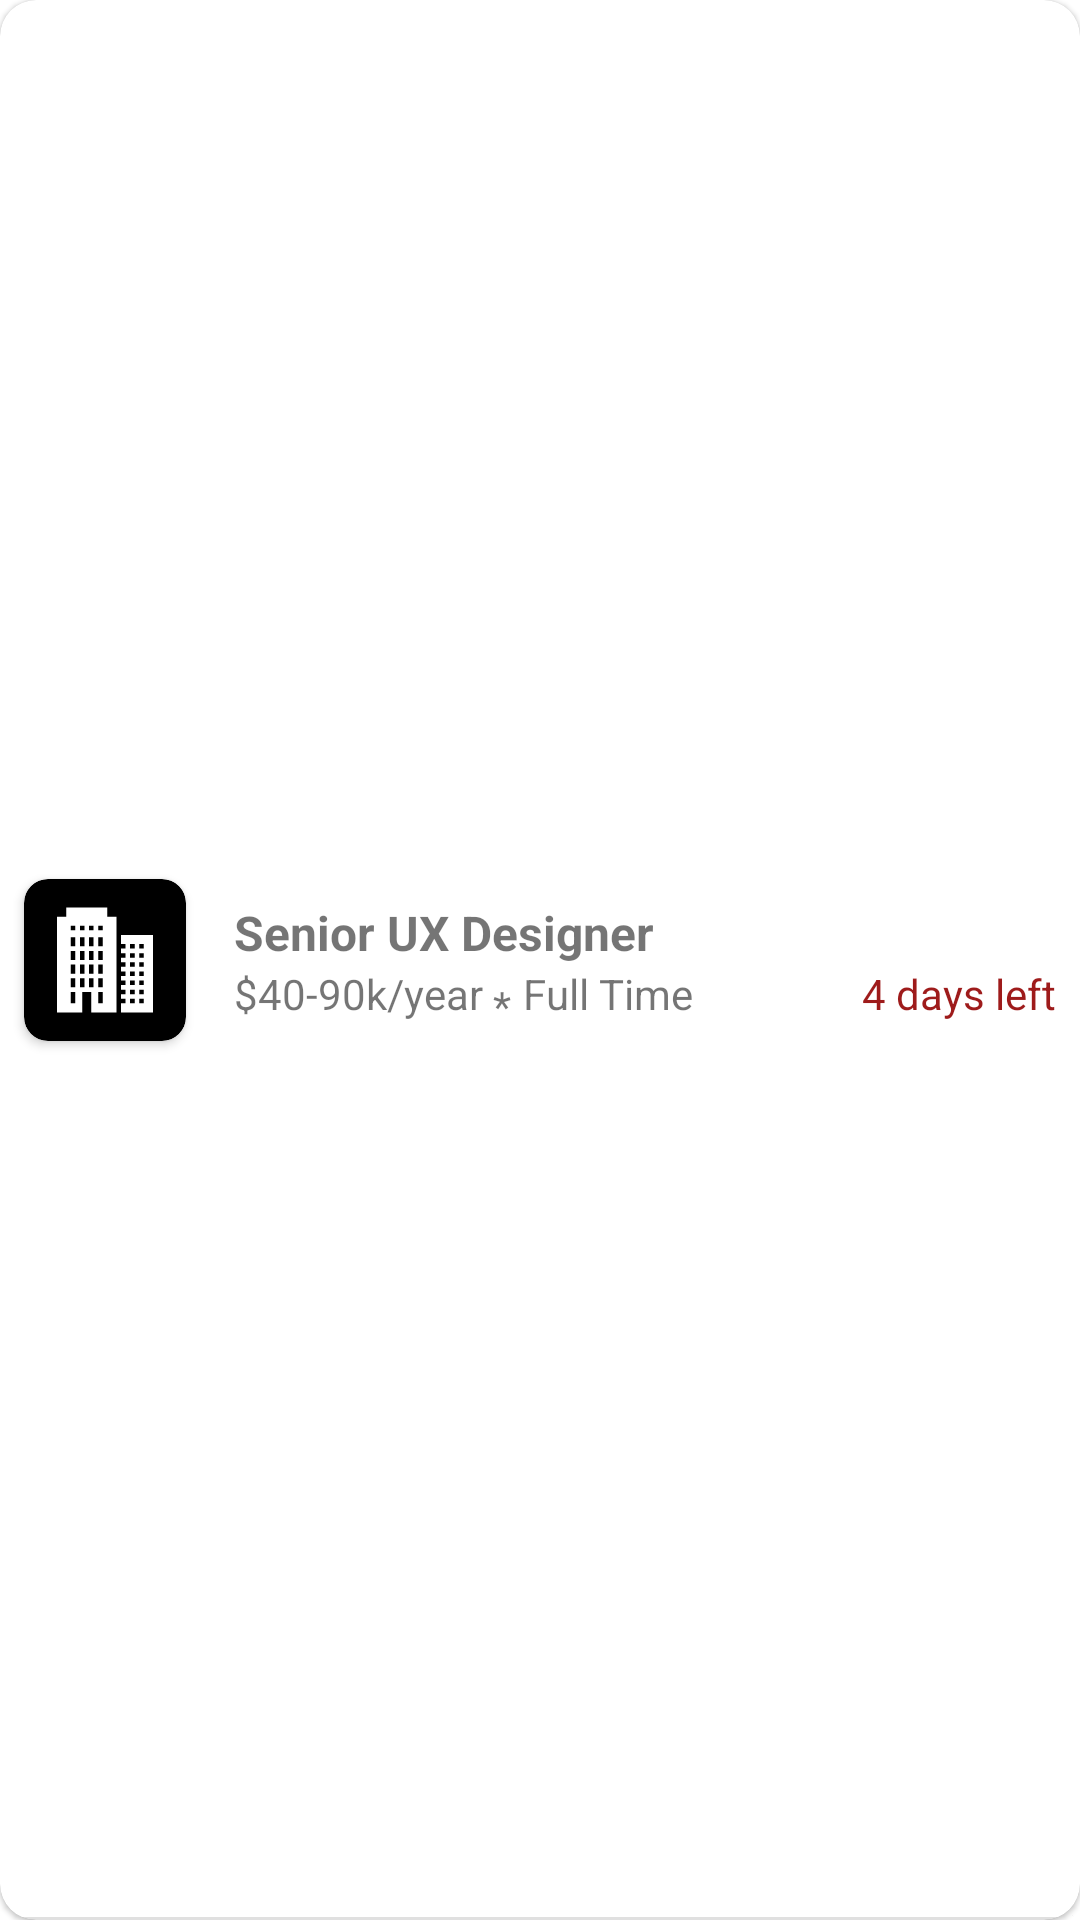

Where to tap for icons on this 1080px×1920px app screen, as (x=x, y=y):
companysvgwhite: (x=105, y=960)
